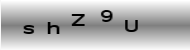9: (99, 9, 113, 23)
U: (123, 19, 138, 32)
Z: (70, 12, 85, 27)
h: (46, 19, 60, 35)
s: (20, 23, 34, 35)
